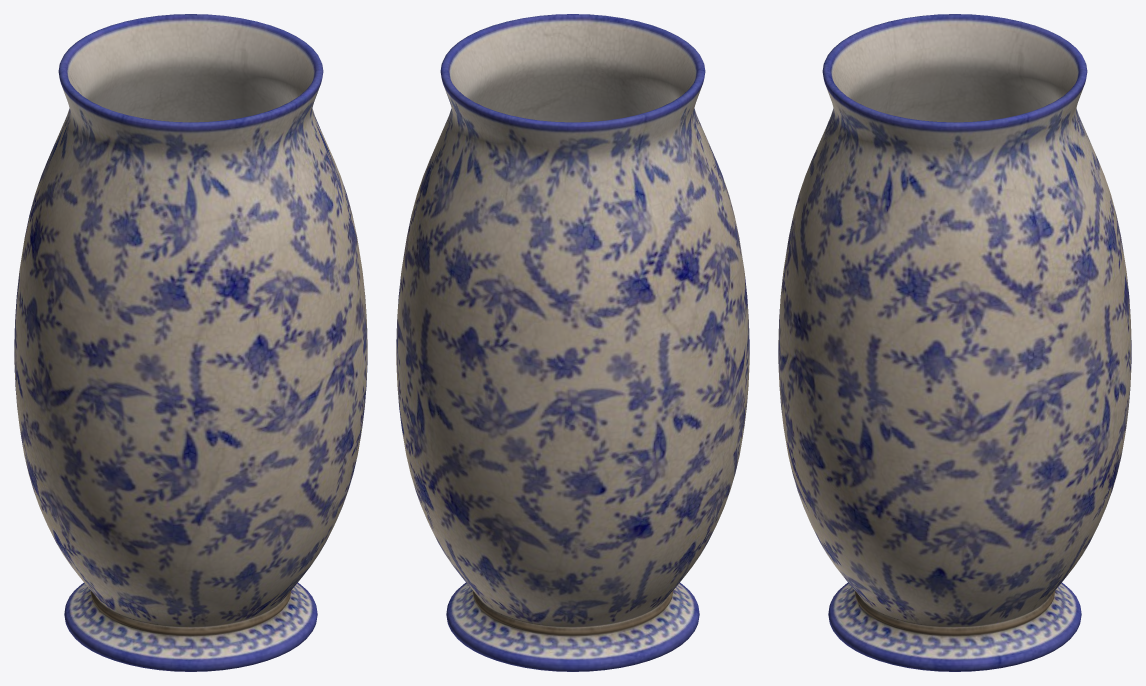
Rendered from antique_ceramic_vase_01.glb.
The picture shows the model from 3 angles, left to right: view 1: azimuth 30°, elevation 25°; view 2: azimuth 150°, elevation 25°; view 3: azimuth 270°, elevation 25°; orthographic projection.
Visible parts, largest first — view 1: antique_ceramic_vase_01; view 2: antique_ceramic_vase_01; view 3: antique_ceramic_vase_01.
Boxes of the visible parts, x1,y1,x2,y2 form: antique_ceramic_vase_01: (14,14,367,671); antique_ceramic_vase_01: (396,14,749,671); antique_ceramic_vase_01: (778,14,1131,671).
Bounding box in the file's own units: 0.255 × 0.4396 × 0.255.
1 material, 1 textured.
